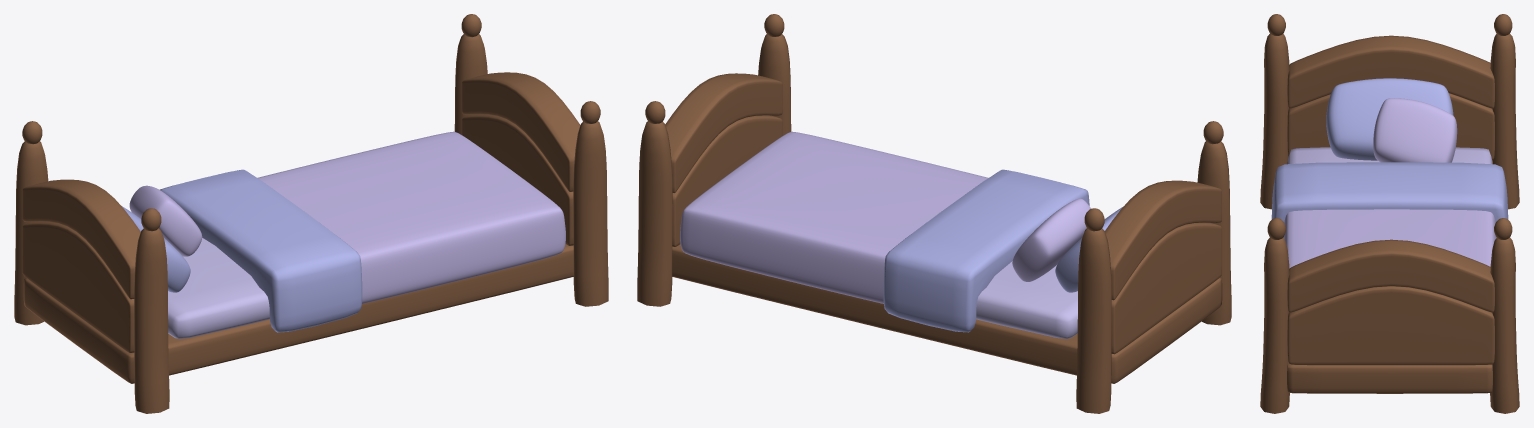
File: low_poly_single_bed.glb
3 renders of one model, left to right at view 1: azimuth 30°, elevation 25°; view 2: azimuth 150°, elevation 25°; view 3: azimuth 270°, elevation 25°, orthographic. The views are drawn at different scales.
Parts seen in each view (by area): view 1: BSC_Low_poly_simple_bed_Base, BSC_Bedding, BSC_Pillow_2, BSC_Pillow_1; view 2: BSC_Low_poly_simple_bed_Base, BSC_Bedding, BSC_Pillow_2, BSC_Pillow_1; view 3: BSC_Low_poly_simple_bed_Base, BSC_Bedding, BSC_Pillow_1, BSC_Pillow_2.
Boxes of the visible parts, x1,y1,x2,y2 form: BSC_Low_poly_simple_bed_Base: (14, 14, 608, 413); BSC_Bedding: (160, 131, 565, 338); BSC_Pillow_2: (129, 185, 202, 256); BSC_Pillow_1: (122, 206, 190, 292); BSC_Low_poly_simple_bed_Base: (637, 14, 1231, 413); BSC_Bedding: (680, 131, 1089, 338); BSC_Pillow_2: (1012, 198, 1090, 281); BSC_Pillow_1: (1055, 206, 1123, 292); BSC_Low_poly_simple_bed_Base: (1260, 14, 1519, 413); BSC_Bedding: (1271, 147, 1508, 268); BSC_Pillow_1: (1326, 78, 1453, 160); BSC_Pillow_2: (1373, 98, 1457, 162).
Bounding box in the file's own units: 2 × 0.8 × 1.
